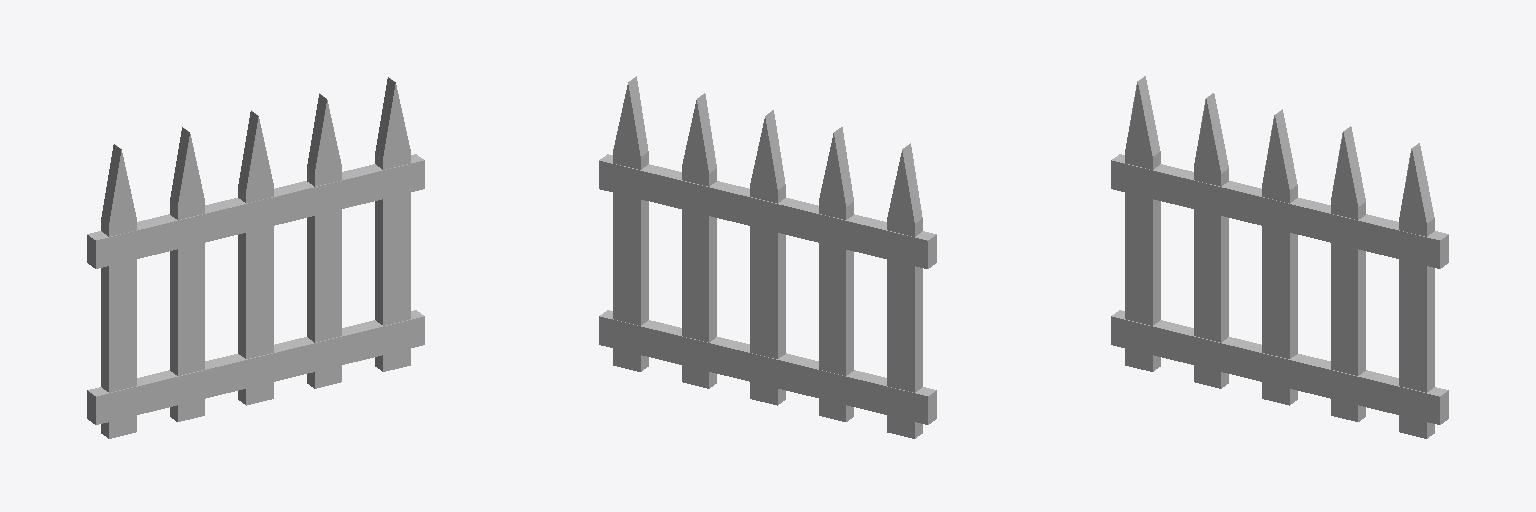
Rendered from fence2.obj.
3 views of the same model, side by side, from view 1: azimuth 30°, elevation 25°; view 2: azimuth 150°, elevation 25°; view 3: azimuth 330°, elevation 25° (orthographic).
Parts seen in each view (by area): view 1: 立方体.002; view 2: 立方体.002; view 3: 立方体.002.
Boxes of the visible parts, x1=… form: 立方体.002: x1=87, y1=77, x2=424, y2=438; 立方体.002: x1=599, y1=76, x2=936, y2=438; 立方体.002: x1=1111, y1=76, x2=1448, y2=438.
Size of the model in its own units: 2.4 by 2 by 0.1121.